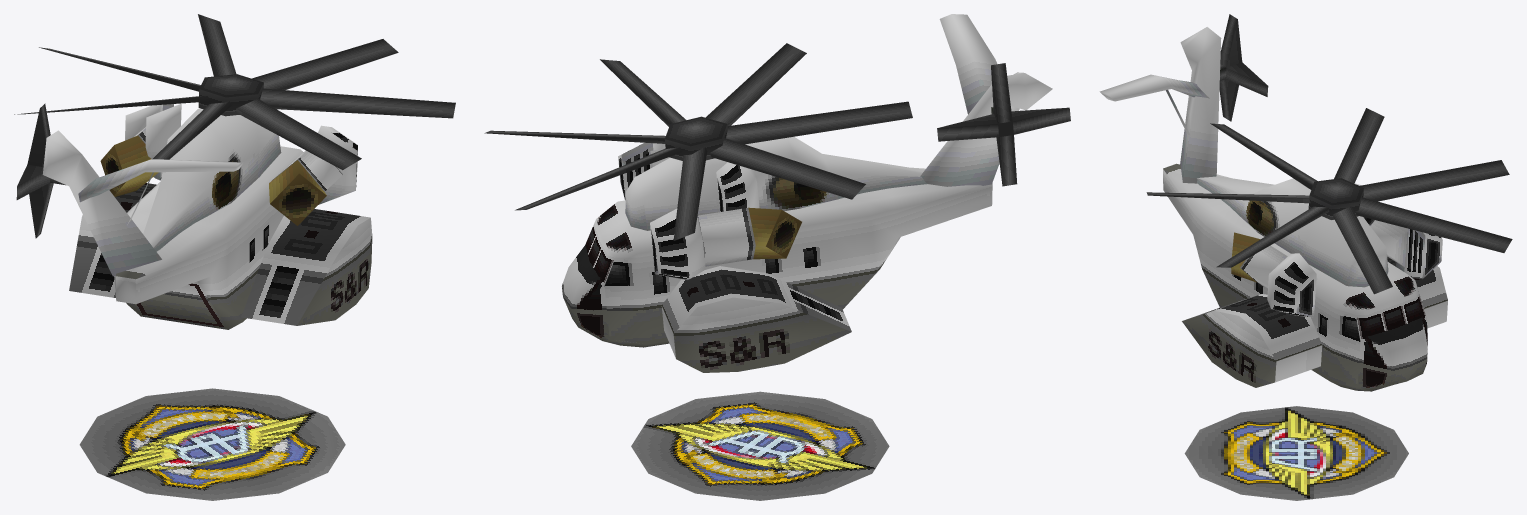
Rendered from ps2_save-icons_airranger2plus.glb.
3 views of the same model, side by side, from view 1: azimuth 30°, elevation 25°; view 2: azimuth 150°, elevation 25°; view 3: azimuth 270°, elevation 25° (orthographic). The views are drawn at different scales.
Visible parts, largest first — view 1: static.ico; view 2: static.ico; view 3: static.ico.
Part boxes in pixels (bbox=[...]): static.ico: bbox=[14, 14, 455, 500]; static.ico: bbox=[484, 14, 1070, 500]; static.ico: bbox=[1099, 14, 1512, 500].
Size of the model in its own units: 4.46 by 3.63 by 3.87.
1 material, 1 textured.
